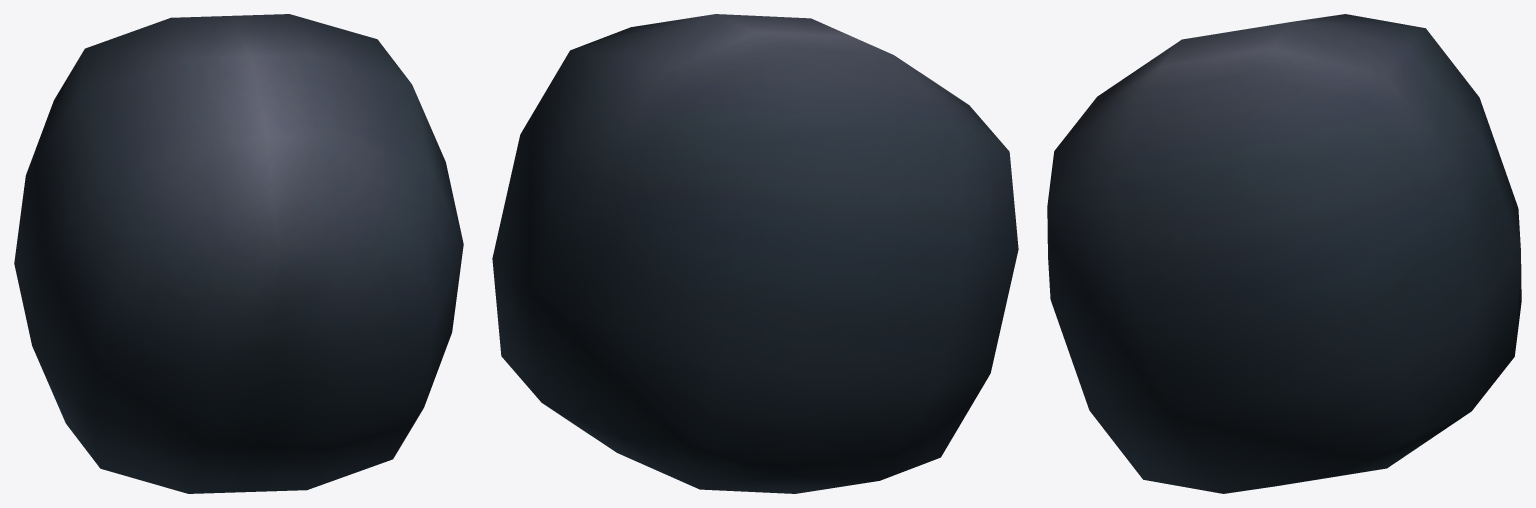
Rendered from cannon_ball.glb.
The picture shows the model from 3 angles, left to right: view 1: azimuth 30°, elevation 25°; view 2: azimuth 150°, elevation 25°; view 3: azimuth 270°, elevation 25°; orthographic projection. The views are drawn at different scales.
Visible parts, largest first — view 1: cannon_ball; view 2: cannon_ball; view 3: cannon_ball.
Part boxes in pixels (x1=…): cannon_ball: x1=14, y1=14, x2=463, y2=493; cannon_ball: x1=492, y1=14, x2=1018, y2=493; cannon_ball: x1=1047, y1=14, x2=1521, y2=493.
Size of the model in its own units: 0.4221 by 0.4206 by 0.4304.
1 material, 1 textured.
